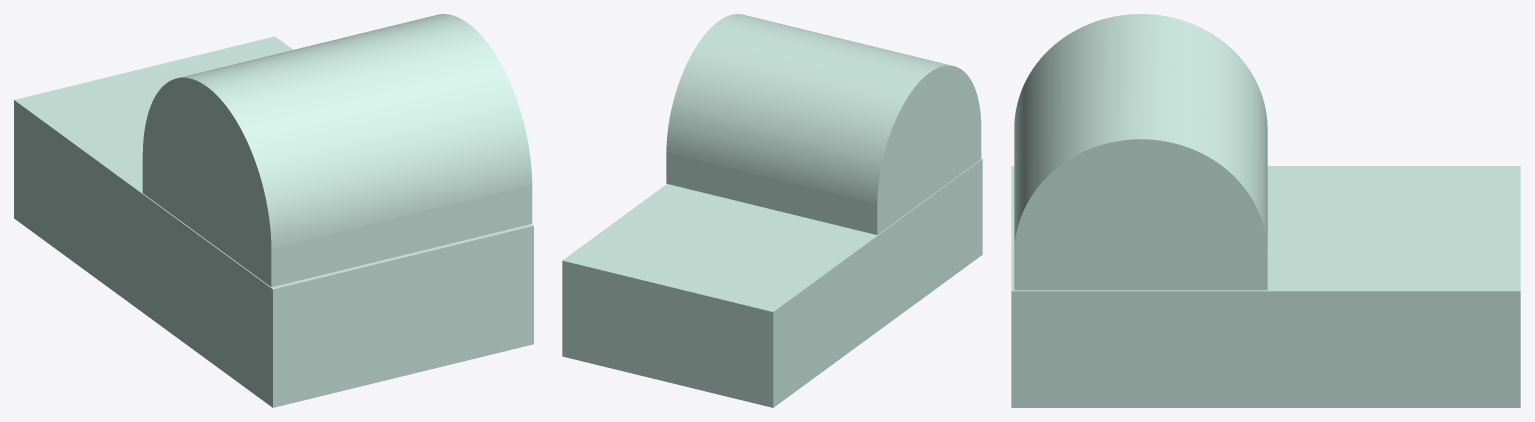
3 views of the same model, side by side, from view 1: azimuth 30°, elevation 25°; view 2: azimuth 150°, elevation 25°; view 3: azimuth 270°, elevation 25° (orthographic). The views are drawn at different scales.
Parts seen in each view (by area): view 1: Renderer Node; view 2: Renderer Node; view 3: Renderer Node.
Boxes of the visible parts, x1,y1,x2,y2 form: Renderer Node: (14,14,533,407); Renderer Node: (562,14,982,407); Renderer Node: (1011,14,1520,407).
Size of the model in its own units: 0.75 by 0.7499 by 1.29.
